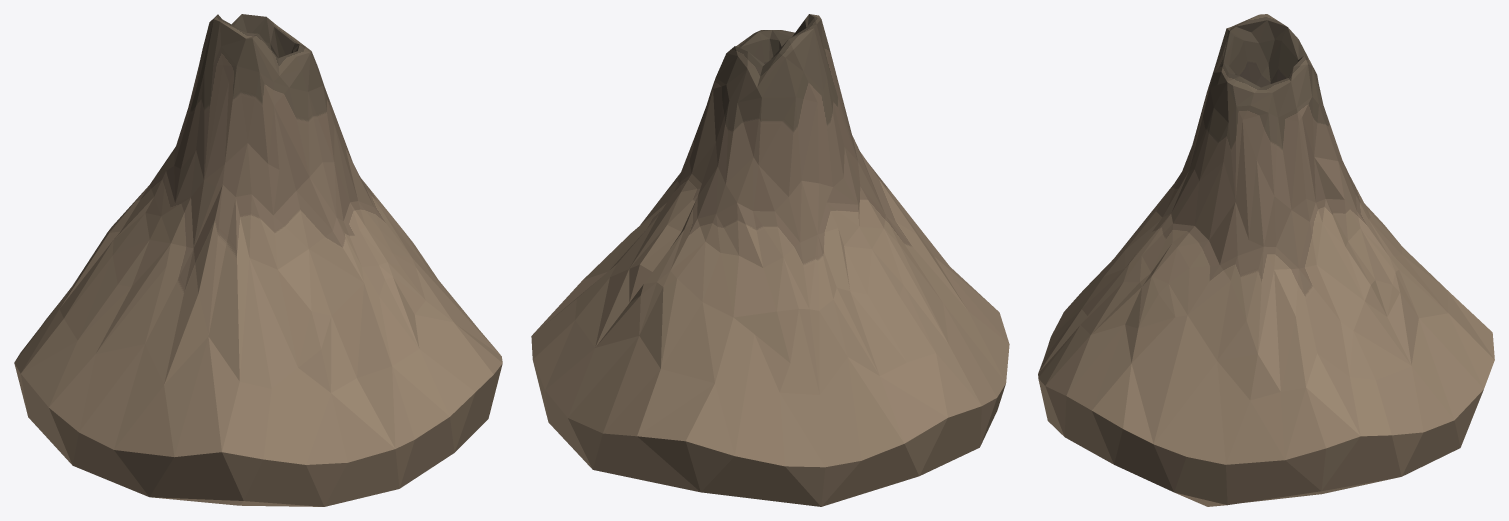
The model's file is bg-volcano.glb.
3 renders of one model, left to right at view 1: azimuth 30°, elevation 25°; view 2: azimuth 150°, elevation 25°; view 3: azimuth 270°, elevation 25°, orthographic. The views are drawn at different scales.
Parts seen in each view (by area): view 1: SM_Env_Volcano_01; view 2: SM_Env_Volcano_01; view 3: SM_Env_Volcano_01.
Boxes of the visible parts, x1,y1,x2,y2 form: SM_Env_Volcano_01: [14, 14, 502, 506]; SM_Env_Volcano_01: [531, 14, 1009, 506]; SM_Env_Volcano_01: [1038, 14, 1494, 506].
Bounding box in the file's own units: 16.76 × 17.42 × 16.81.
1 material, 1 textured.
